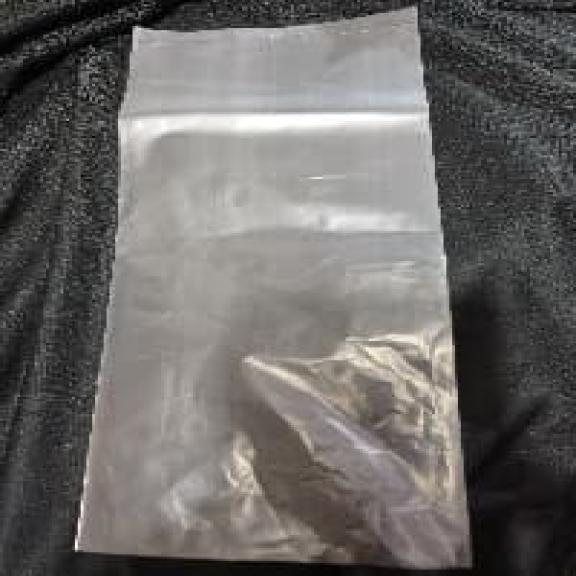Plastik: (77, 10, 468, 566)
